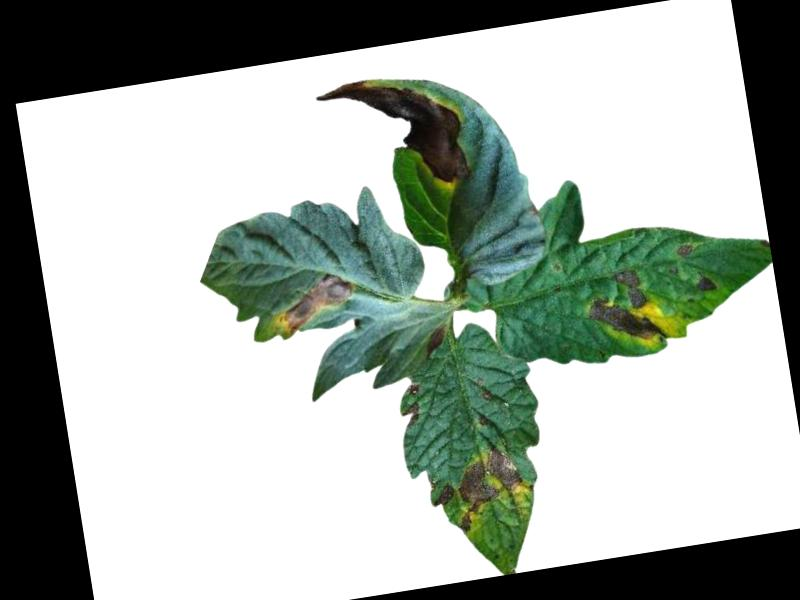Early_blight: (314, 65, 472, 200), (447, 442, 530, 535), (582, 263, 669, 350), (267, 268, 360, 340), (399, 381, 425, 427), (422, 324, 448, 360), (430, 481, 455, 508), (694, 271, 718, 293), (674, 242, 693, 258)
